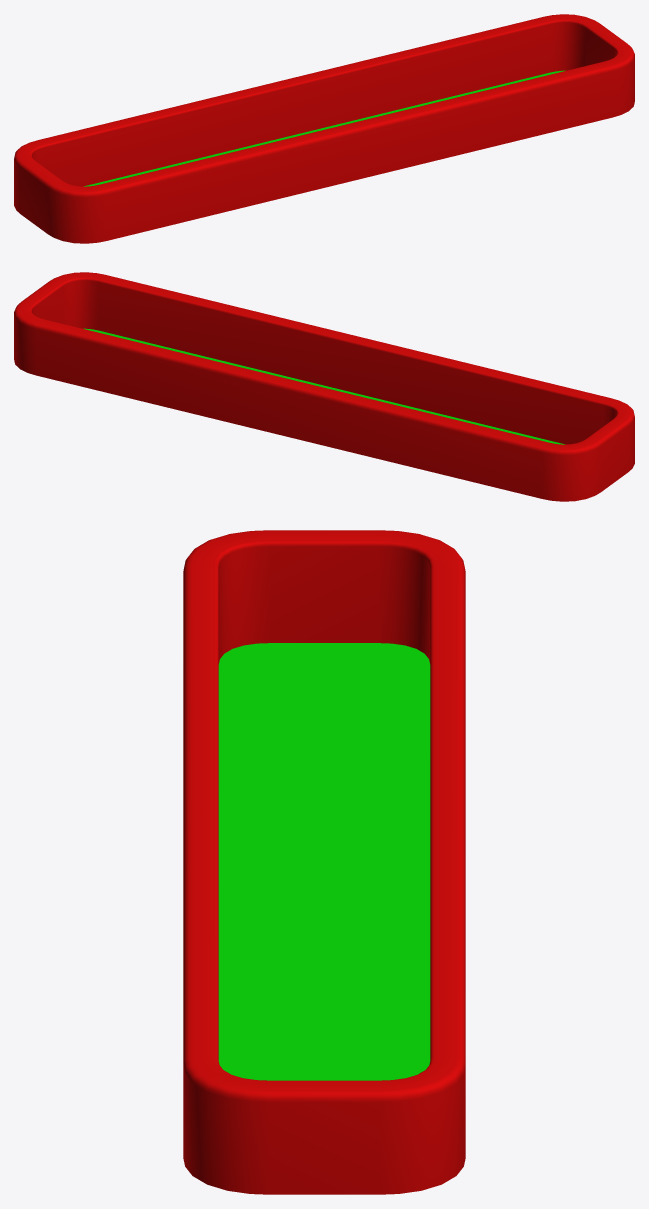
3 renders of one model, top to bottom at view 1: azimuth 30°, elevation 25°; view 2: azimuth 150°, elevation 25°; view 3: azimuth 270°, elevation 25°, orthographic. The views are drawn at different scales.
Visible parts, largest first — view 1: Base; view 2: Base; view 3: Base.
Part boxes in pixels (x1=…): Base: x1=14, y1=14, x2=634, y2=243; Base: x1=14, y1=272, x2=634, y2=501; Base: x1=183, y1=530, x2=465, y2=1194.
Size of the model in its own units: 760 by 62.85 by 160.
